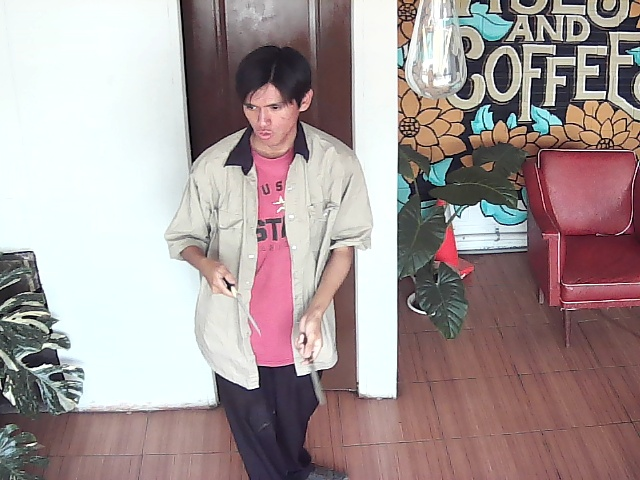cuchillo: (220, 270, 265, 339)
